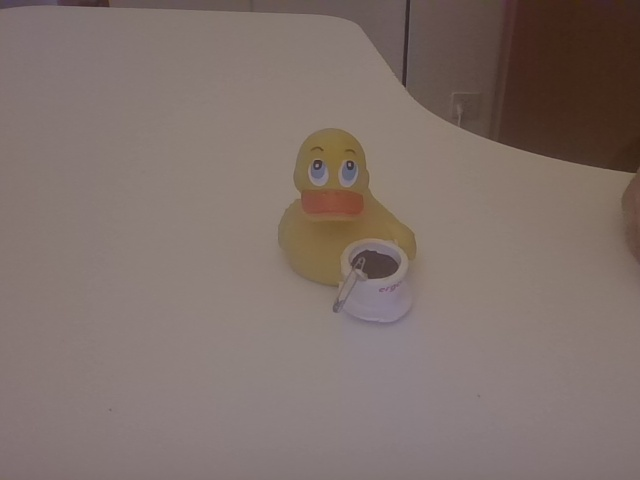duck: (266, 123, 421, 335)
